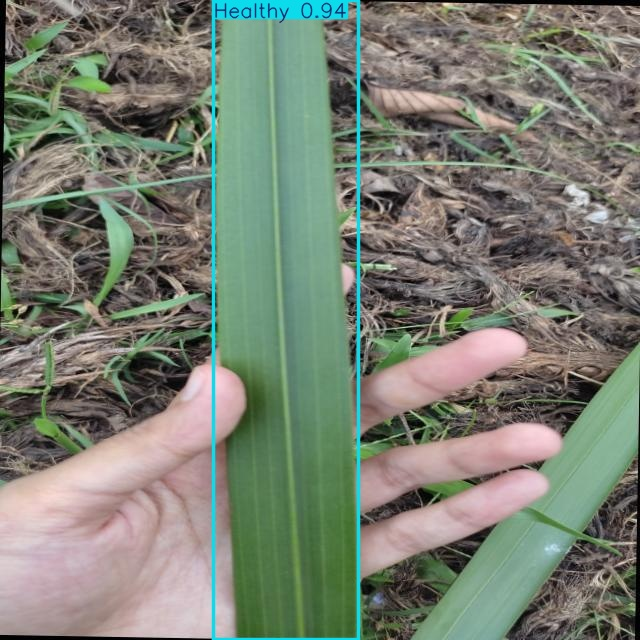Healthy: (214, 0, 359, 640)
